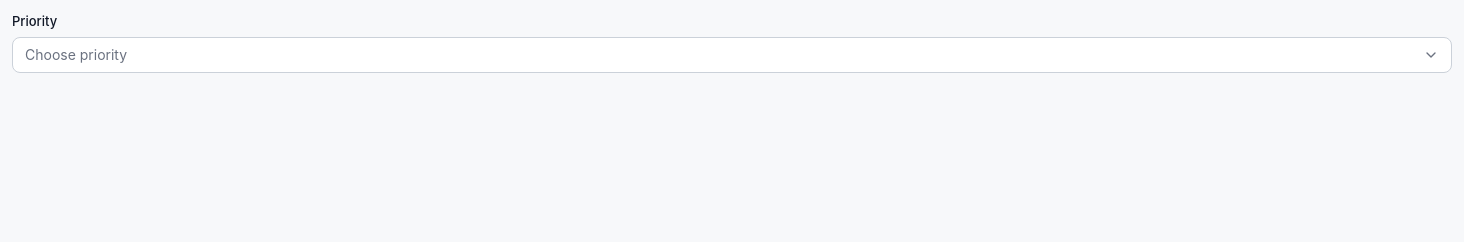
Scenario: Select › opens, supports keyboard selection, and calls onValueChange
The image size is (1464, 242).
Click the dropdown labelled "priority": point(76, 54) top-left (12, 37), bottom-right (1452, 73)
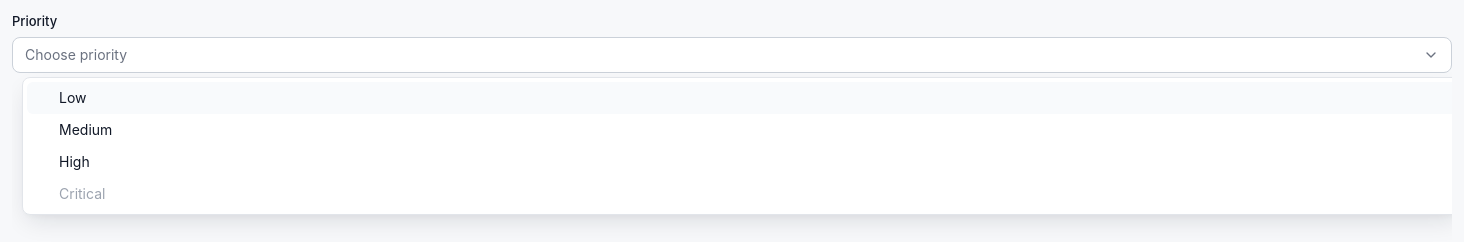
Now the option "High" is shown
Click the option "High": point(74, 162) top-left (59, 153), bottom-right (90, 170)
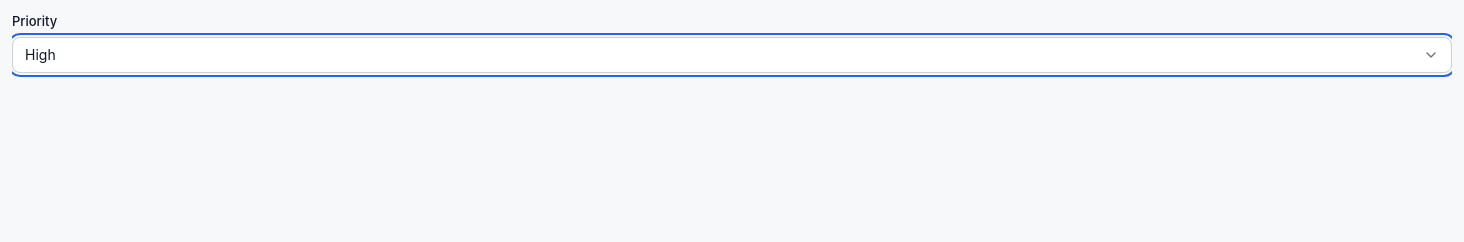
Now the dropdown named "Priority" reads "High", box top-left (12, 37), bottom-right (1452, 73)
